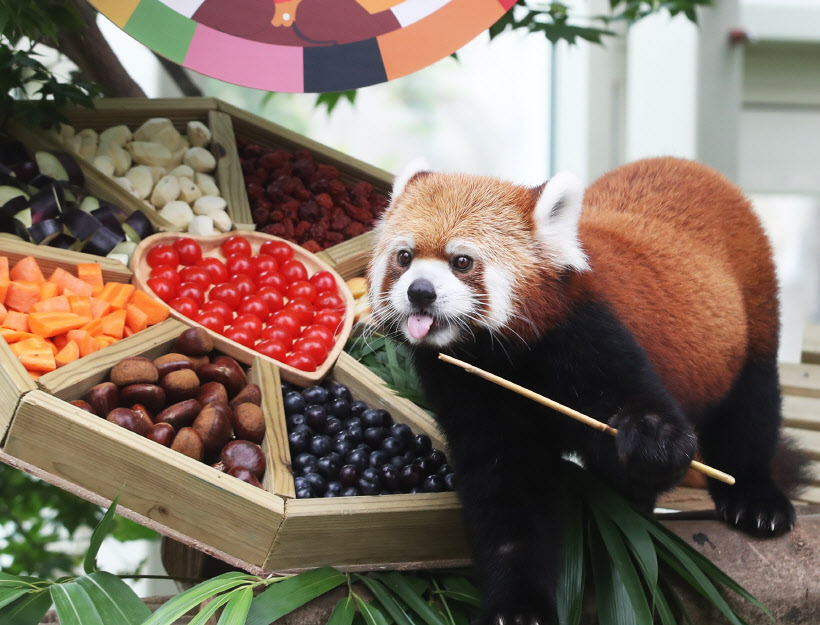redPanda: (360, 134, 798, 566)
